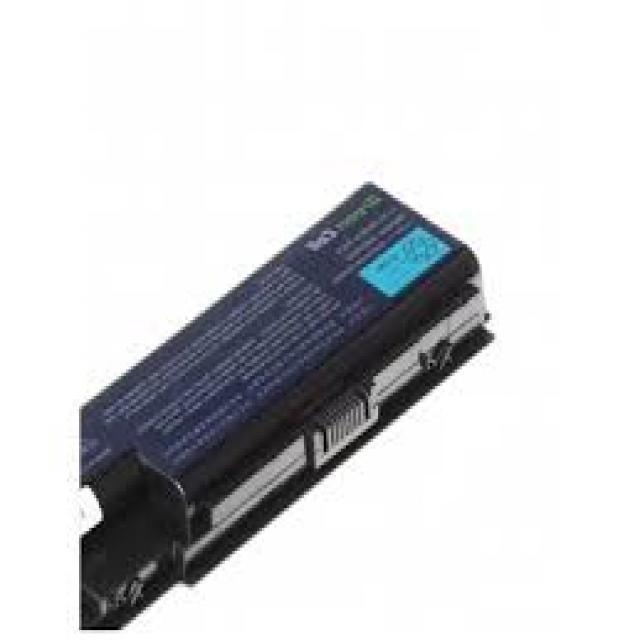battery: (79, 185, 492, 628)
